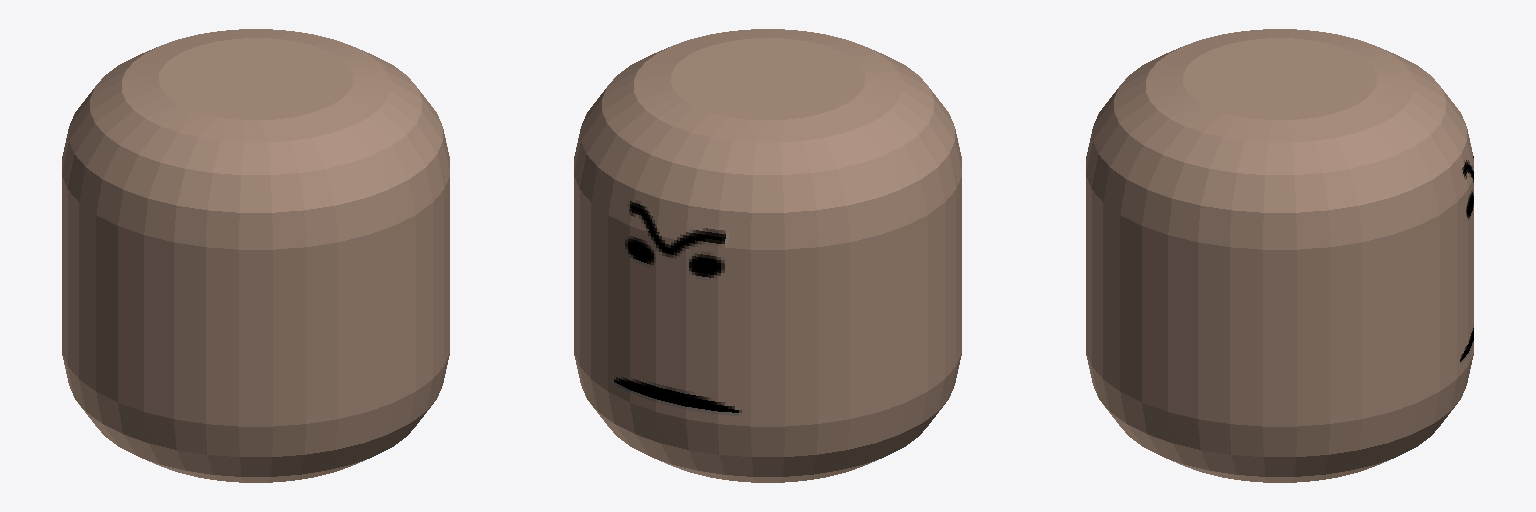
The picture shows the model from 3 angles: view 1: azimuth 30°, elevation 25°; view 2: azimuth 150°, elevation 25°; view 3: azimuth 270°, elevation 25°; orthographic projection.
Visible parts, largest first — view 1: Njtrro1; view 2: Njtrro1; view 3: Njtrro1.
Part boxes in pixels (left/top/right/bottom): Njtrro1: left=62, top=29, right=449, bottom=482; Njtrro1: left=574, top=29, right=961, bottom=482; Njtrro1: left=1086, top=29, right=1473, bottom=482.
Bounding box in the file's own units: 1.2 × 1.2 × 1.2.
Materials: 1 (1 with a texture image).